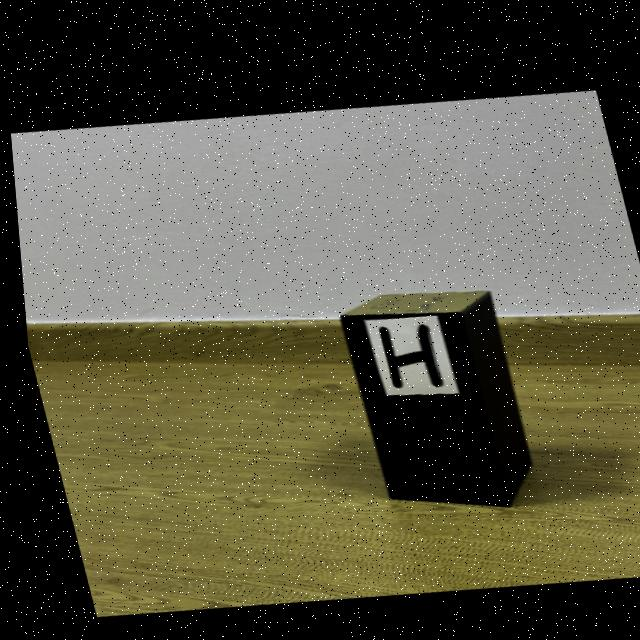H: (375, 316, 435, 379)
